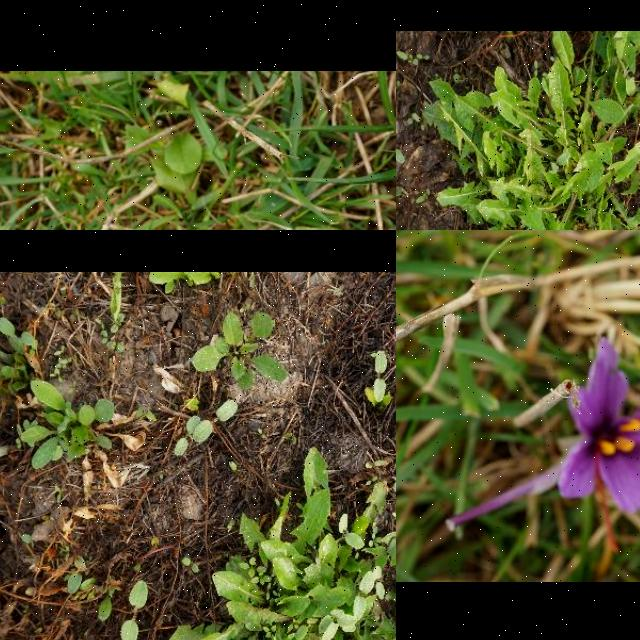flower: (559, 337, 640, 554)
